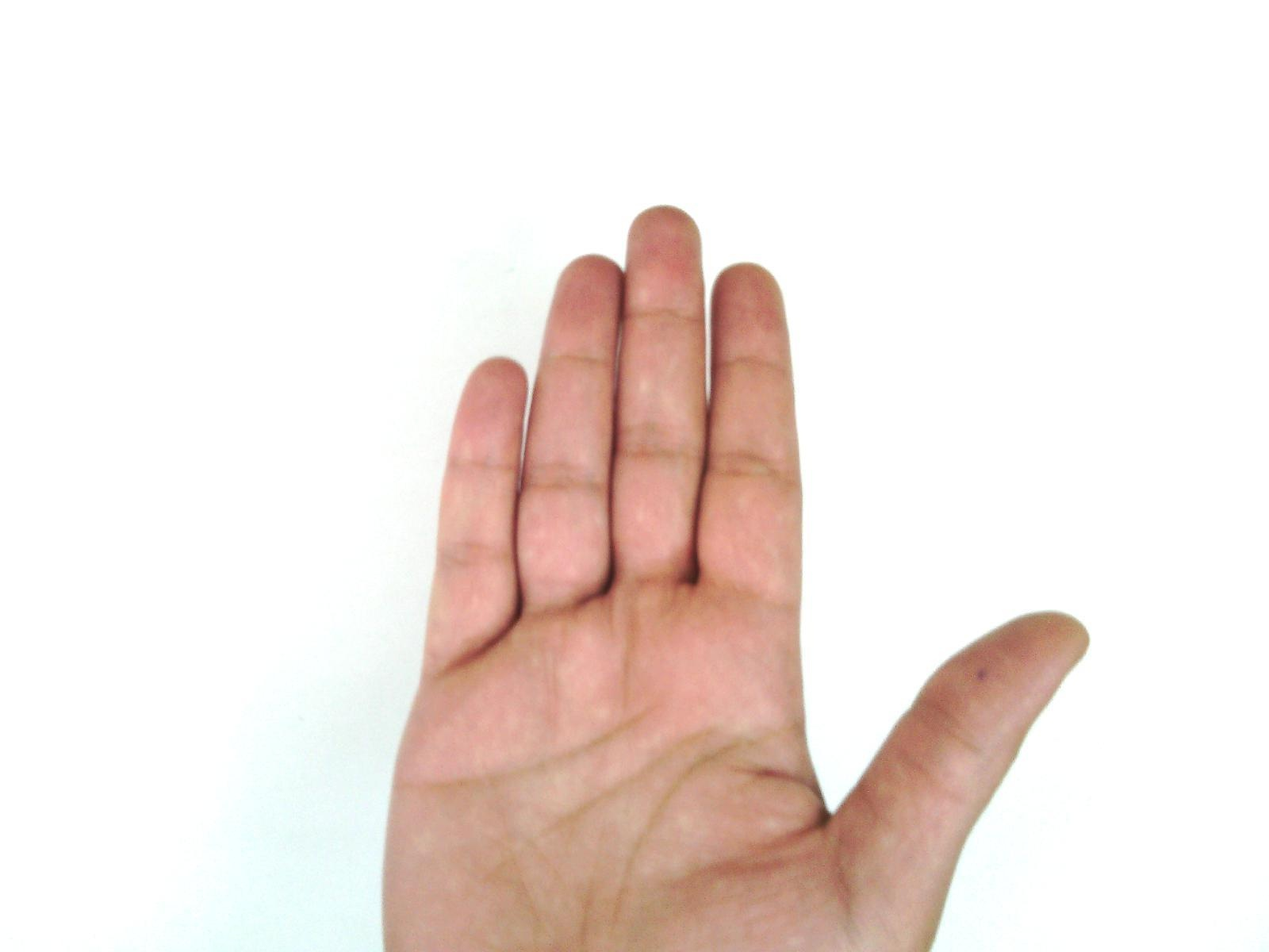open_palm: (376, 204, 1091, 951)
